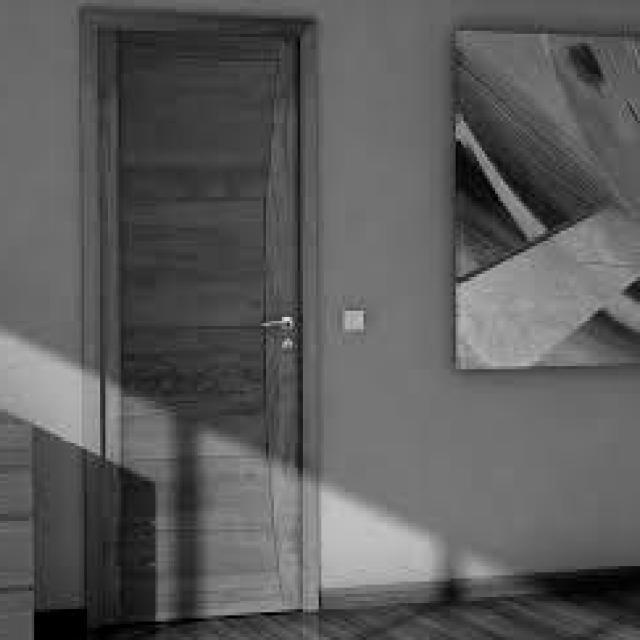door: (89, 12, 317, 624)
